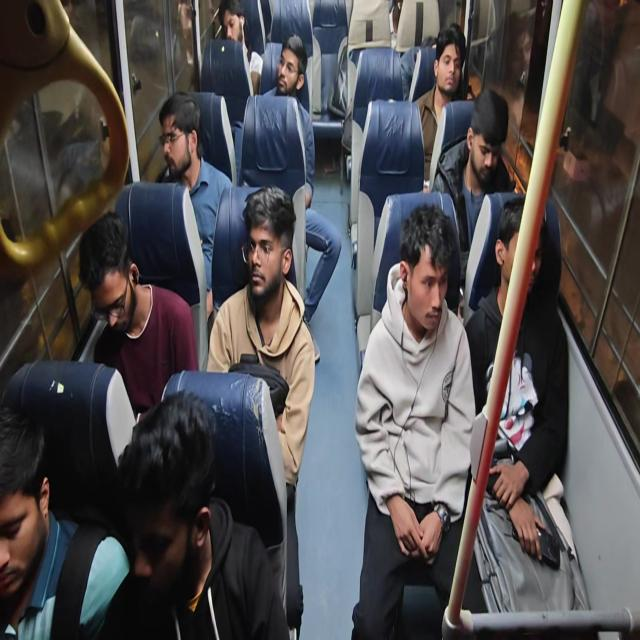person: (108, 399, 216, 612), (1, 400, 59, 600), (393, 198, 458, 342), (74, 218, 145, 344), (238, 172, 294, 330), (494, 194, 546, 328), (464, 81, 511, 186), (156, 90, 201, 181), (432, 23, 474, 100), (273, 28, 311, 105), (216, 5, 248, 51), (414, 29, 439, 63)
